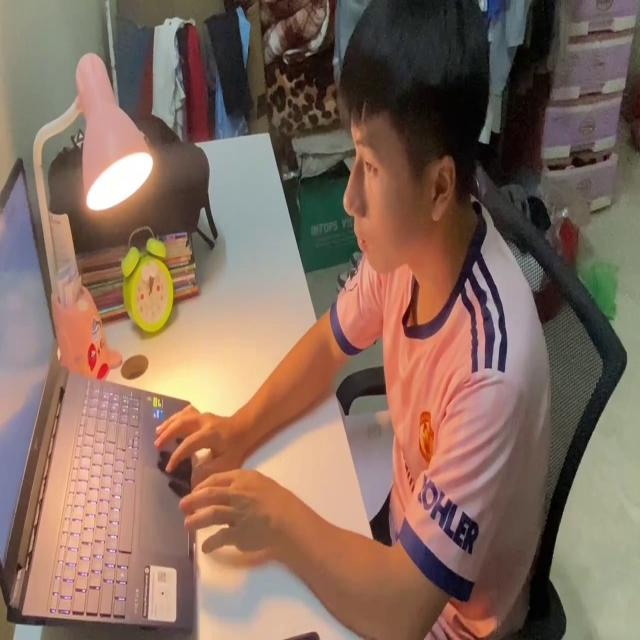laptop: (0, 148, 197, 640)
student: (154, 0, 554, 640)
